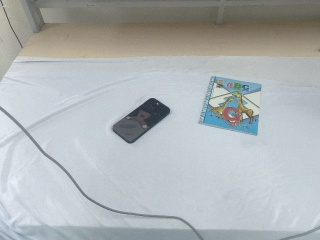book: (195, 74, 264, 137)
phone: (111, 97, 171, 144)
